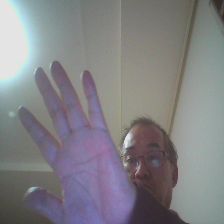hand: (17, 67, 138, 222)
